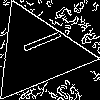I: (12, 28, 63, 59)
